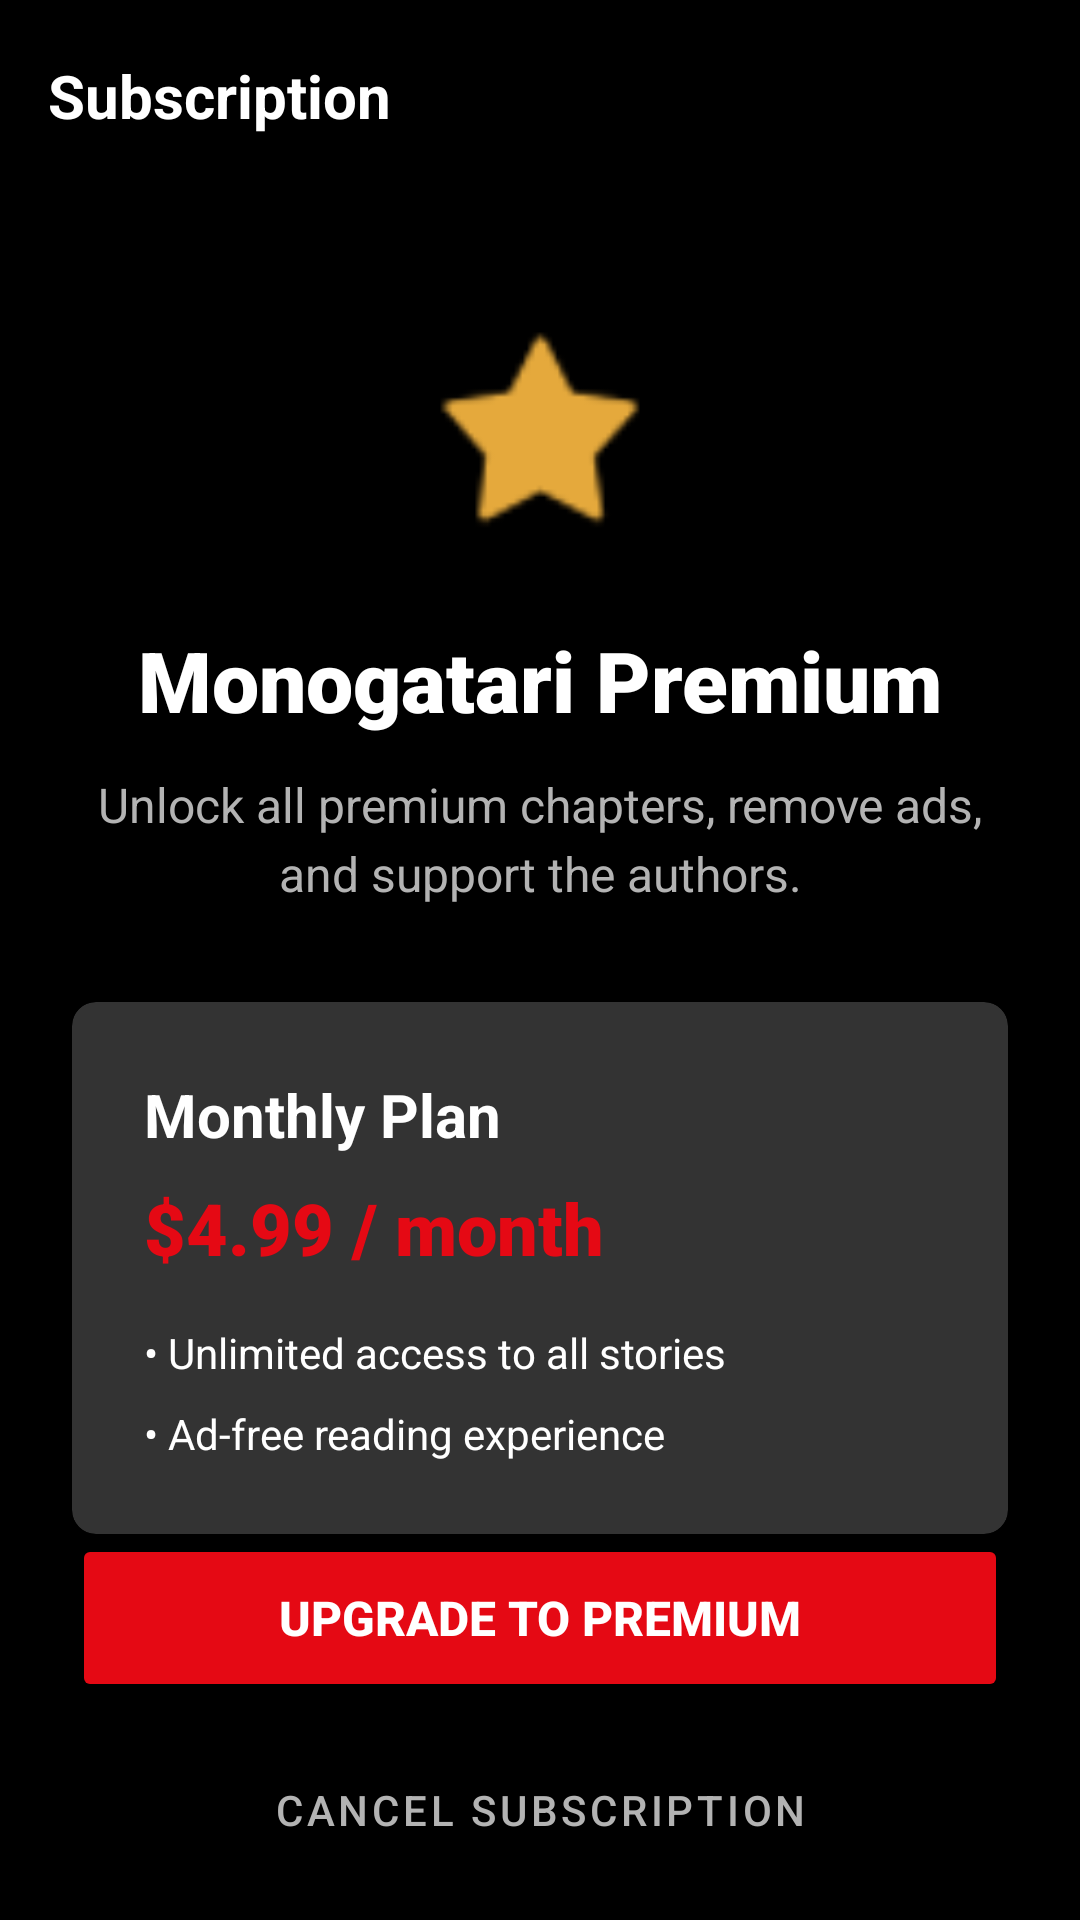

Where to tap for icons on this 1080px x 1920px app screen, as (x,y):
star on: (540,428)
